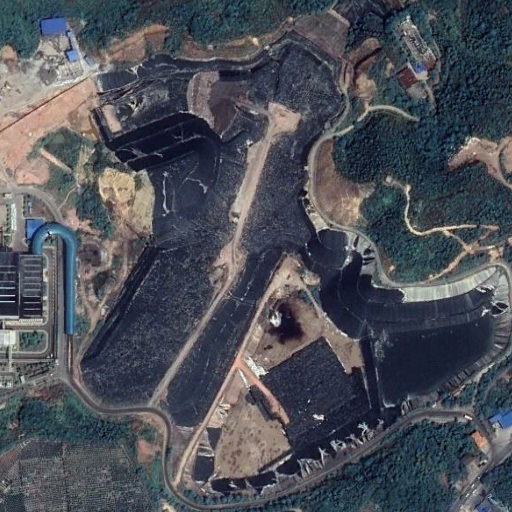lf: (61, 33, 507, 507)
